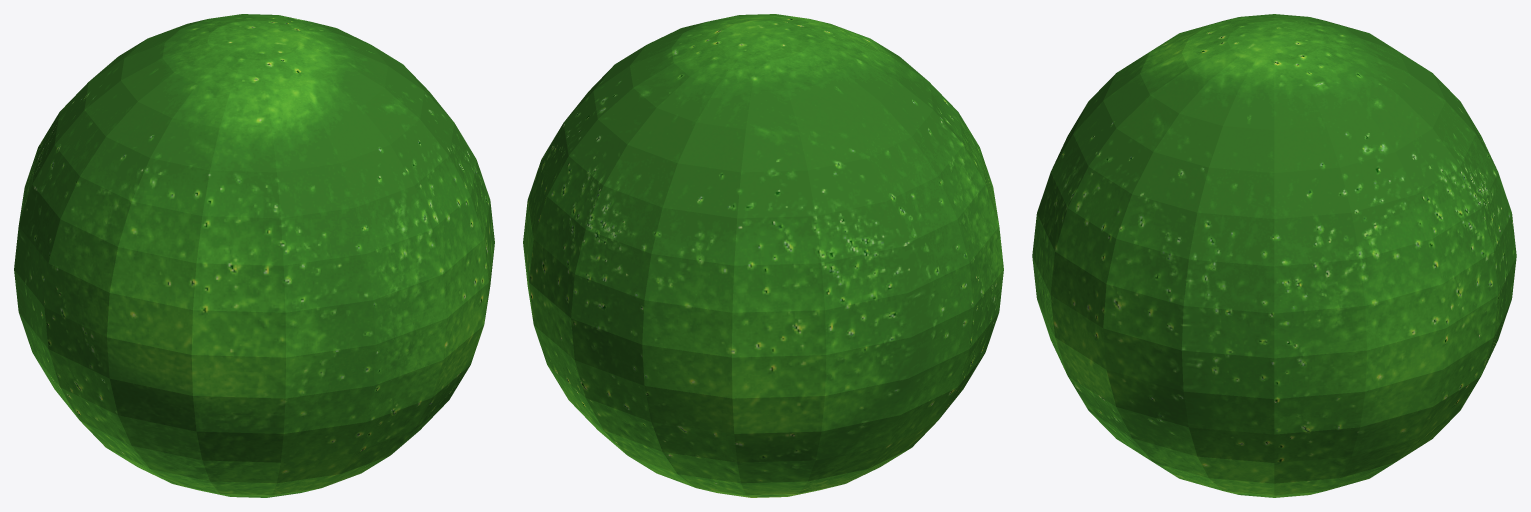
Rendered from lime.fbx.
The picture shows the model from 3 angles, left to right: view 1: azimuth 30°, elevation 25°; view 2: azimuth 150°, elevation 25°; view 3: azimuth 270°, elevation 25°; orthographic projection.
Visible parts, largest first — view 1: Lime; view 2: Lime; view 3: Lime.
Part boxes in pixels (x1=…): Lime: x1=14, y1=14, x2=494, y2=497; Lime: x1=523, y1=14, x2=1003, y2=497; Lime: x1=1032, y1=14, x2=1516, y2=497.
Bounding box in the file's own units: 0.88 × 0.88 × 0.88.
